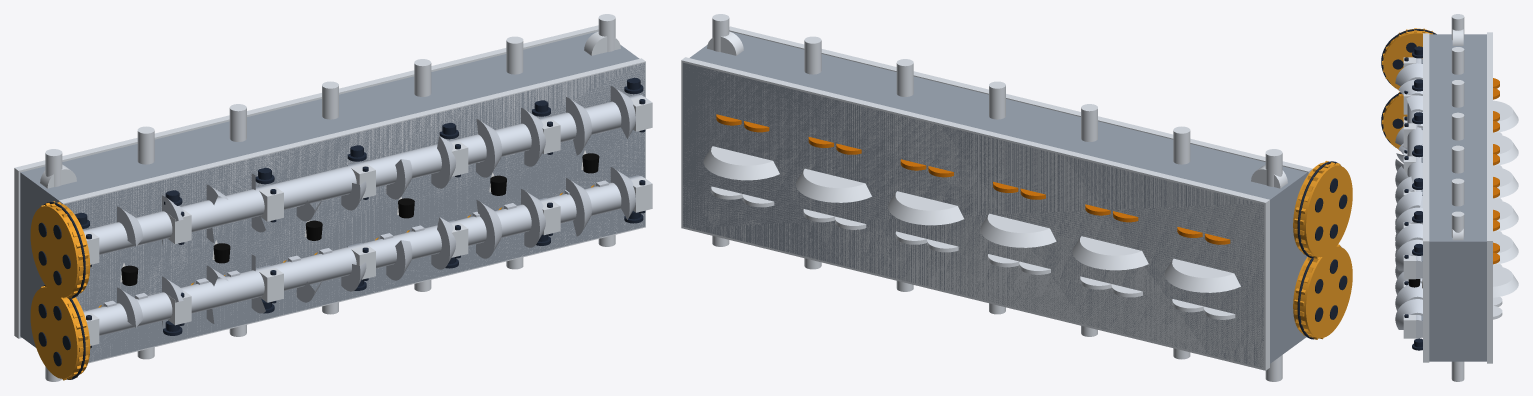
The model's file is cylinder-head-right.glb.
3 views of the same model, side by side, from view 1: azimuth 30°, elevation 25°; view 2: azimuth 150°, elevation 25°; view 3: azimuth 270°, elevation 25° (orthographic). The views are drawn at different scales.
Parts seen in each view (by area): view 1: Cylinder_Head_Casting_Core, Valve_Cover_Perimeter_Mating_Rail, Exhaust_Camshaft_Shaft_Line, Intake_Camshaft_Shaft_Line, Head_Deck_Precision_Milled_Face, Exhaust_Vernier_Cam_Gear, Intake_Vernier_Cam_Gear, Exhaust_Cam_Lobe_9, Intake_Cam_Lobe_9, Intake_Cam_Lobe_10, Exhaust_Cam_Lobe_10, Exhaust_Cam_Lobe_11 (+21 smaller); view 2: Cylinder_Head_Casting_Core, Head_Deck_Precision_Milled_Face, Exhaust_Vernier_Cam_Gear, Intake_Vernier_Cam_Gear, Valve_Cover_Perimeter_Mating_Rail, PentRoof_Chamber_2, PentRoof_Chamber_6, PentRoof_Chamber_1, PentRoof_Chamber_3, PentRoof_Chamber_4, PentRoof_Chamber_5, Head_Stud_Pillar_2_Outer (+4 smaller); view 3: Cylinder_Head_Casting_Core, Valve_Cover_Perimeter_Mating_Rail, Head_Deck_Precision_Milled_Face, Exhaust_Vernier_Cam_Gear, Exhaust_Camshaft_Shaft_Line, Intake_Vernier_Cam_Gear, PentRoof_Chamber_6, PentRoof_Chamber_4, PentRoof_Chamber_1, PentRoof_Chamber_5, PentRoof_Chamber_2, PentRoof_Chamber_3 (+27 smaller).
Boxes of the visible parts, box(x1,y1,x2,y2) form: Cylinder_Head_Casting_Core: box(20, 31, 644, 362); Valve_Cover_Perimeter_Mating_Rail: box(59, 58, 645, 363); Exhaust_Camshaft_Shaft_Line: box(83, 94, 643, 254); Intake_Camshaft_Shaft_Line: box(83, 176, 643, 335); Head_Deck_Precision_Milled_Face: box(14, 25, 598, 338); Exhaust_Vernier_Cam_Gear: box(30, 204, 90, 297); Intake_Vernier_Cam_Gear: box(30, 287, 90, 378); Exhaust_Cam_Lobe_9: box(476, 119, 502, 177); Intake_Cam_Lobe_9: box(476, 200, 502, 258); Intake_Cam_Lobe_10: box(521, 189, 545, 247); Exhaust_Cam_Lobe_10: box(521, 108, 545, 166); Exhaust_Cam_Lobe_11: box(566, 97, 591, 155); Cylinder_Head_Casting_Core: box(683, 31, 1307, 367); Head_Deck_Precision_Milled_Face: box(681, 57, 1269, 370); Exhaust_Vernier_Cam_Gear: box(1293, 162, 1352, 257); Intake_Vernier_Cam_Gear: box(1293, 246, 1352, 338); Valve_Cover_Perimeter_Mating_Rail: box(729, 26, 1312, 174); PentRoof_Chamber_2: box(1072, 236, 1148, 270); PentRoof_Chamber_6: box(703, 146, 779, 180); PentRoof_Chamber_1: box(1164, 258, 1240, 292); PentRoof_Chamber_3: box(980, 213, 1056, 247); PentRoof_Chamber_4: box(888, 191, 963, 225); PentRoof_Chamber_5: box(796, 168, 871, 202); Head_Stud_Pillar_2_Outer: box(1173, 126, 1190, 164); Cylinder_Head_Casting_Core: box(1429, 34, 1486, 361); Valve_Cover_Perimeter_Mating_Rail: box(1423, 33, 1429, 362); Head_Deck_Precision_Milled_Face: box(1487, 32, 1492, 363); Exhaust_Vernier_Cam_Gear: box(1383, 28, 1435, 89); Exhaust_Camshaft_Shaft_Line: box(1407, 58, 1422, 278); Intake_Vernier_Cam_Gear: box(1383, 93, 1407, 148); PentRoof_Chamber_6: box(1493, 265, 1518, 297); PentRoof_Chamber_4: box(1493, 199, 1518, 231); PentRoof_Chamber_1: box(1493, 100, 1518, 132); PentRoof_Chamber_5: box(1493, 232, 1518, 264); PentRoof_Chamber_2: box(1493, 133, 1518, 165); PentRoof_Chamber_3: box(1493, 166, 1518, 198).
Bounding box in the file's own units: 0.648 × 0.234 × 0.1767.
